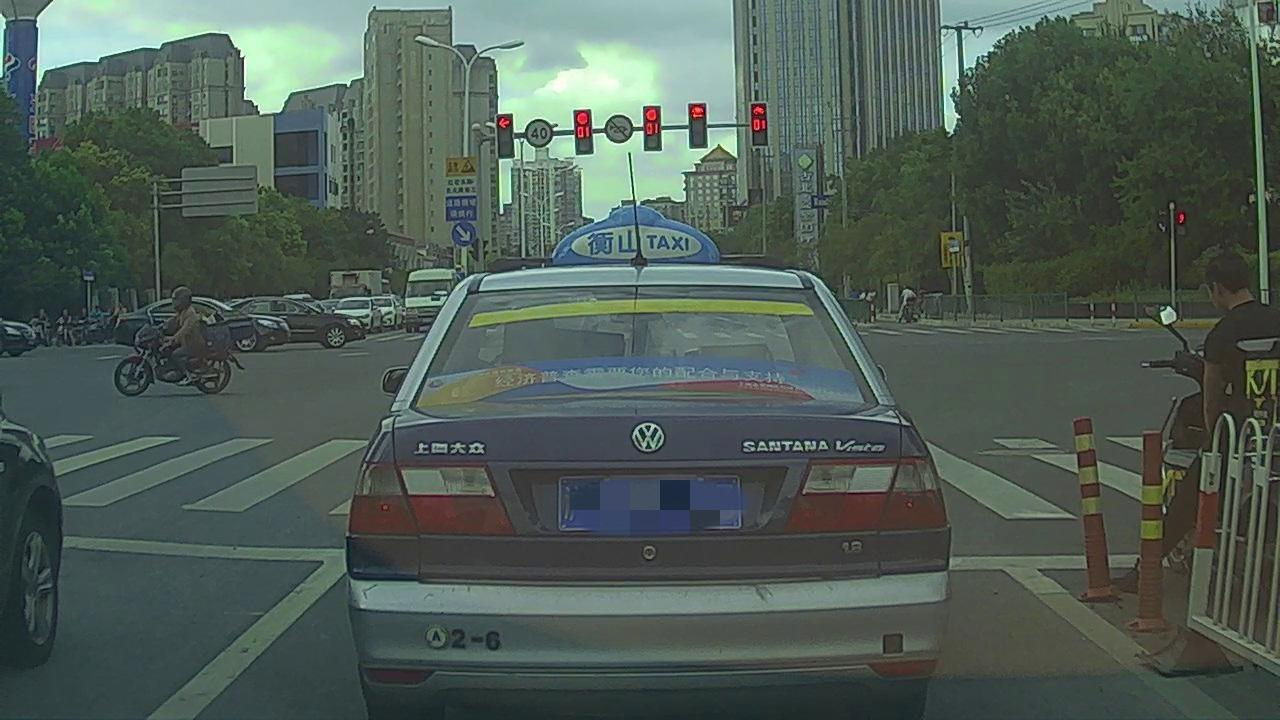traffic_light: (687, 103, 707, 149), (642, 106, 662, 151), (573, 110, 593, 154), (495, 114, 513, 157), (750, 103, 768, 146)
